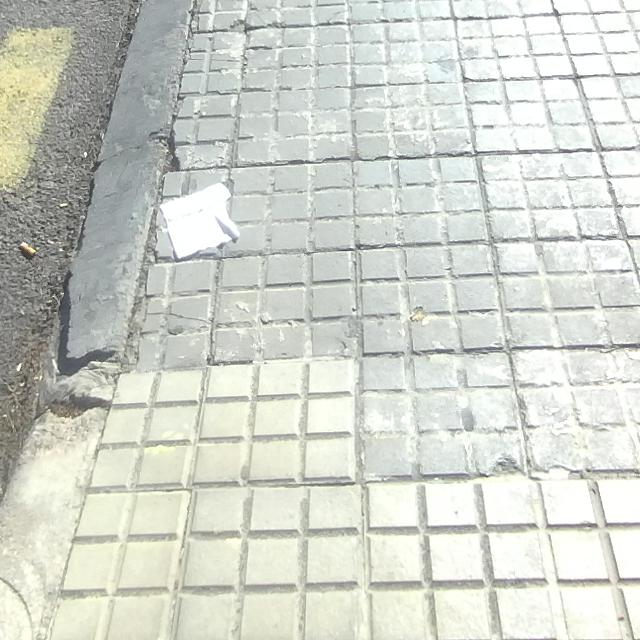calcada_quebrada: (143, 303, 215, 337)
